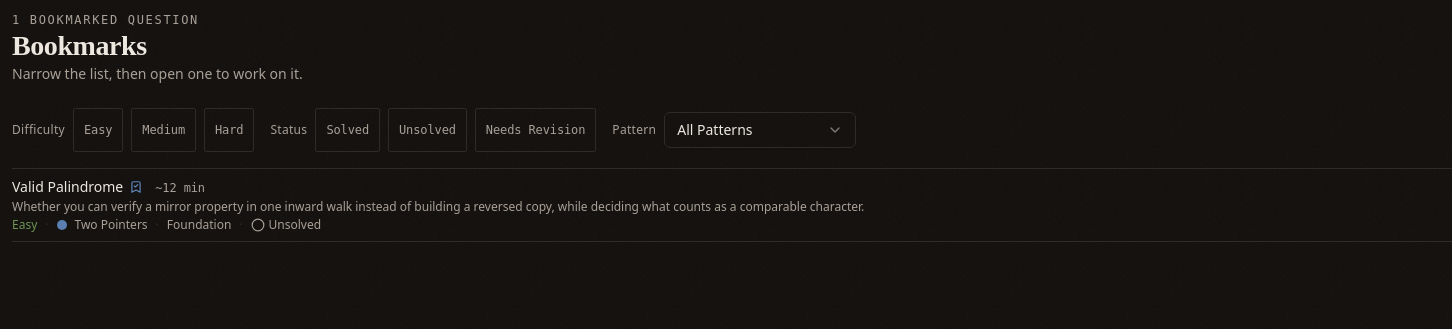
Test case: BookmarksPage › filters that match nothing show a distinct "no bookmarks match" empty state, not the zero-bookmarks one
What coordinates should you click on to do the following:
click the button "Hard"
I would click on:
 (229, 130)
Its box is [204,108,254,152].
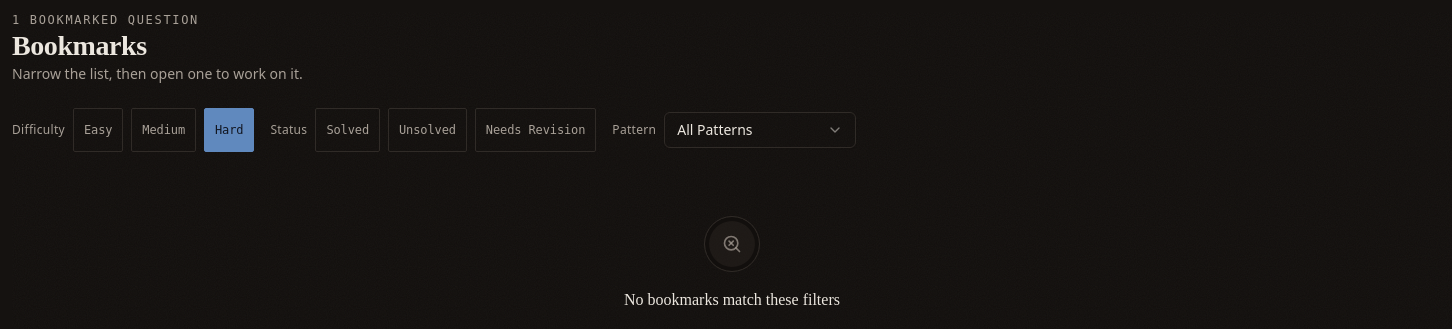
Check: the text "No bookmarks match these filters" is shown, box [624,288,840,312]
